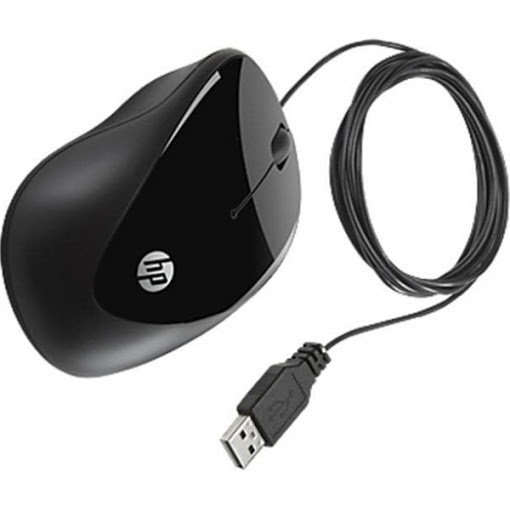hp-mouse-X1000: (1, 33, 505, 468)
